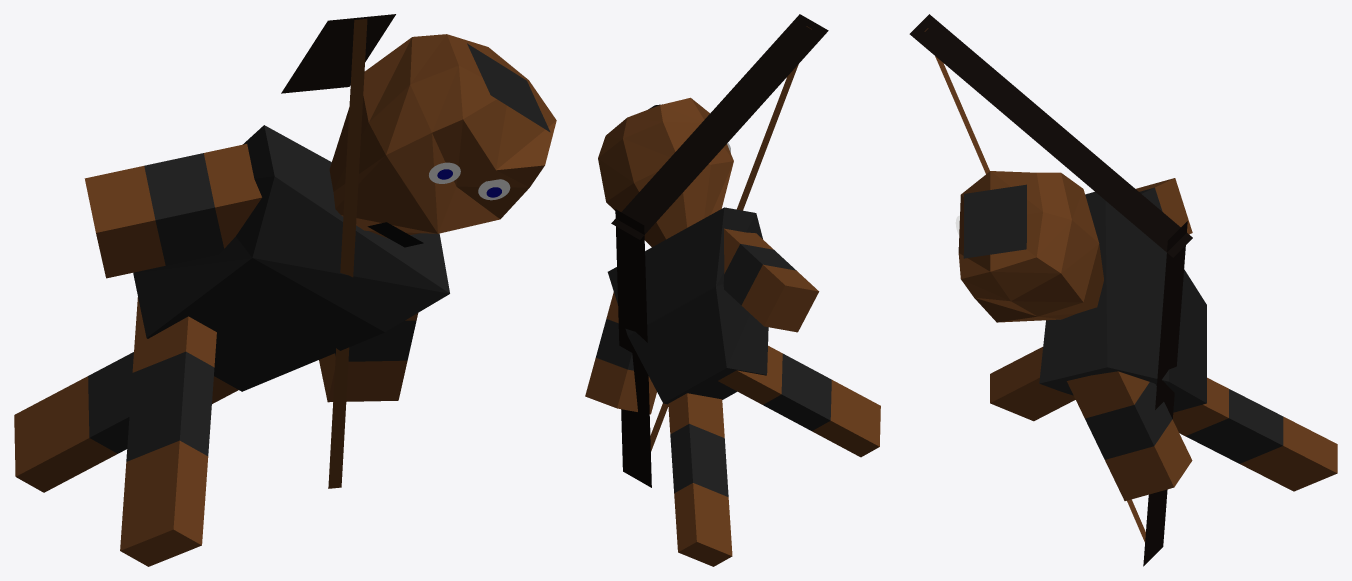
The model's file is archer2d.obj.
The picture shows the model from 3 angles, left to right: view 1: azimuth 30°, elevation 25°; view 2: azimuth 150°, elevation 25°; view 3: azimuth 270°, elevation 25°; orthographic projection. The views are drawn at different scales.
Parts seen in each view (by area): view 1: Cube.001, Cube, Cube.004, Cube.003, Cube.005, Plane.003_Plane.004, Cube.002, Plane.002_Plane.003, Plane.004_Plane.001; view 2: Cube.001, Cube, Plane.002_Plane.003, Cube.005, Cube.004, Cube.003, Plane.001_Plane.002, Cube.002, Plane.003_Plane.004; view 3: Cube.001, Cube, Plane.002_Plane.003, Cube.002, Cube.005, Plane.001_Plane.002, Plane.004_Plane.001, Cube.004, Cube.003, Plane.003_Plane.004.
Boxes of the visible parts, box(x1,y1,x2,y2) form: Cube.001: box(133, 125, 449, 391); Cube: box(329, 34, 556, 238); Cube.004: box(120, 297, 216, 566); Cube.003: box(84, 144, 261, 278); Cube.005: box(14, 352, 238, 492); Plane.003_Plane.004: box(328, 18, 367, 488); Cube.002: box(319, 313, 418, 402); Plane.002_Plane.003: box(281, 14, 395, 93); Plane.004_Plane.001: box(467, 43, 550, 132); Cube.001: box(607, 207, 768, 404); Cube: box(598, 97, 733, 246); Plane.002_Plane.003: box(611, 14, 828, 239); Cube.005: box(668, 393, 732, 566); Cube.004: box(718, 345, 880, 457); Cube.003: box(723, 228, 819, 332); Plane.001_Plane.002: box(615, 209, 651, 487); Cube.002: box(585, 292, 656, 414); Plane.003_Plane.004: box(650, 26, 811, 451); Cube.001: box(1039, 192, 1206, 412); Cube: box(958, 171, 1103, 322); Plane.002_Plane.003: box(909, 14, 1192, 257); Cube.002: box(1067, 371, 1192, 500); Cube.005: box(1172, 377, 1337, 491); Plane.001_Plane.002: box(1143, 221, 1187, 566); Plane.004_Plane.001: box(963, 184, 1026, 258); Cube.004: box(990, 347, 1075, 421); Cube.003: box(1136, 178, 1192, 234); Plane.003_Plane.004: box(924, 28, 1145, 541).
Size of the model in its own units: 3.95 by 5.78 by 4.48.
